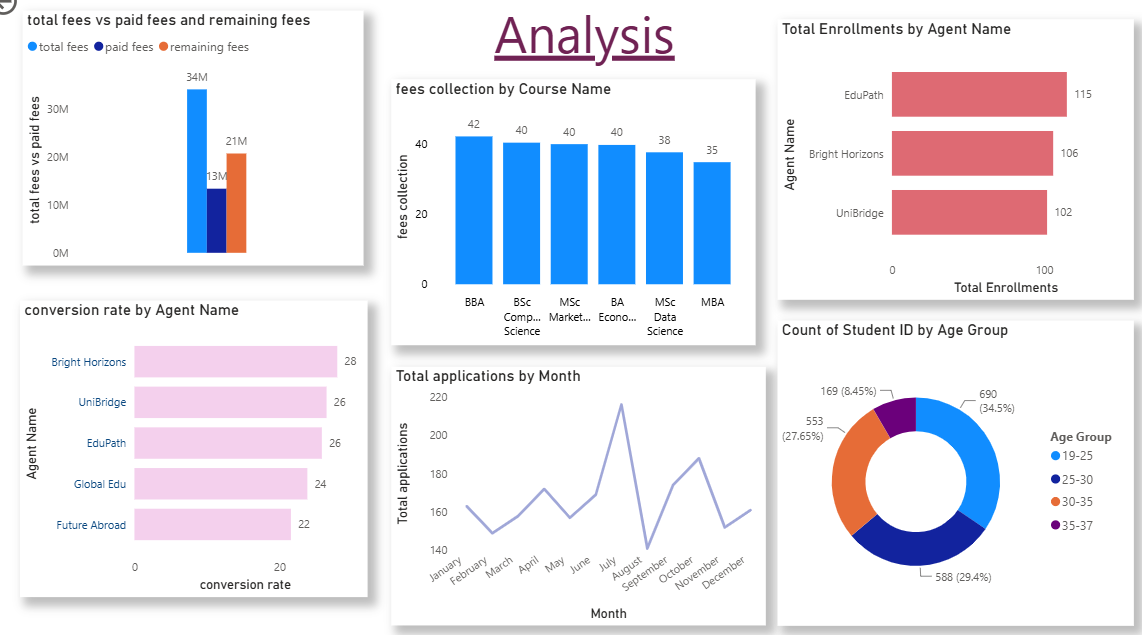

The dashboard page shown, as its layout file describes it:
{"tool":"powerbi","page":{"name":"Analysis","canvas":[1280,720],"ordinal":2},"visuals":[{"type":"clusteredColumnChart","title":"total fees vs paid fees and remaining fees","fields":{"Y":["University.total fees","University.paid fees","University.remaining fees"]},"box":[41.2,30.2,374.6,279.9],"z":0},{"type":"clusteredBarChart","fields":{"Y":["University.conversion rate"],"Category":["University.Agent Name"]},"box":[38.4,348.5,381.5,325.2],"z":1000},{"type":"textbox","box":[446.3,11,424.3,94.2],"z":2000},{"type":"lineChart","fields":{"Category":["University.Application Date.Variation.Date Hierarchy.Month"],"Y":["University.Total applications"]},"box":[446.3,421.9,410.9,283.7],"z":3000},{"type":"columnChart","fields":{"Y":["University.fees collection"],"Category":["University.Course Name"]},"box":[446.3,105.2,399.9,292.3],"z":4000},{"type":"actionButton","box":[0,0,100,40],"z":5000},{"type":"clusteredBarChart","fields":{"Category":["University.Agent Name"],"Y":["University.Total Enrollments"]},"box":[870.7,40.4,391.3,308.2],"z":6000},{"type":"donutChart","fields":{"Category":["University.Age Group"],"Y":["CountNonNull(University.Student ID)"]},"box":[870.7,370.5,391.3,335.1],"z":7000}]}

Visuals, with their boxes in screenshot pixels (x1, y1, x2, y2), scaled from the page's 1280x720 canvas onto the 1142x635 screenshot:
"total fees vs paid fees and remaining fees" clusteredColumnChart: [left=37, top=27, right=371, bottom=273]
clusteredBarChart - University.conversion rate x University.Agent Name: [left=34, top=307, right=375, bottom=594]
textbox: [left=398, top=10, right=777, bottom=93]
lineChart - University.Application Date.Variation.Date Hierarchy.Month x University.Total applications: [left=398, top=372, right=765, bottom=622]
columnChart - University.fees collection x University.Course Name: [left=398, top=93, right=755, bottom=351]
actionButton: [left=0, top=0, right=89, bottom=35]
clusteredBarChart - University.Agent Name x University.Total Enrollments: [left=777, top=36, right=1126, bottom=307]
donutChart - University.Age Group x CountNonNull(University.Student ID): [left=777, top=327, right=1126, bottom=622]
